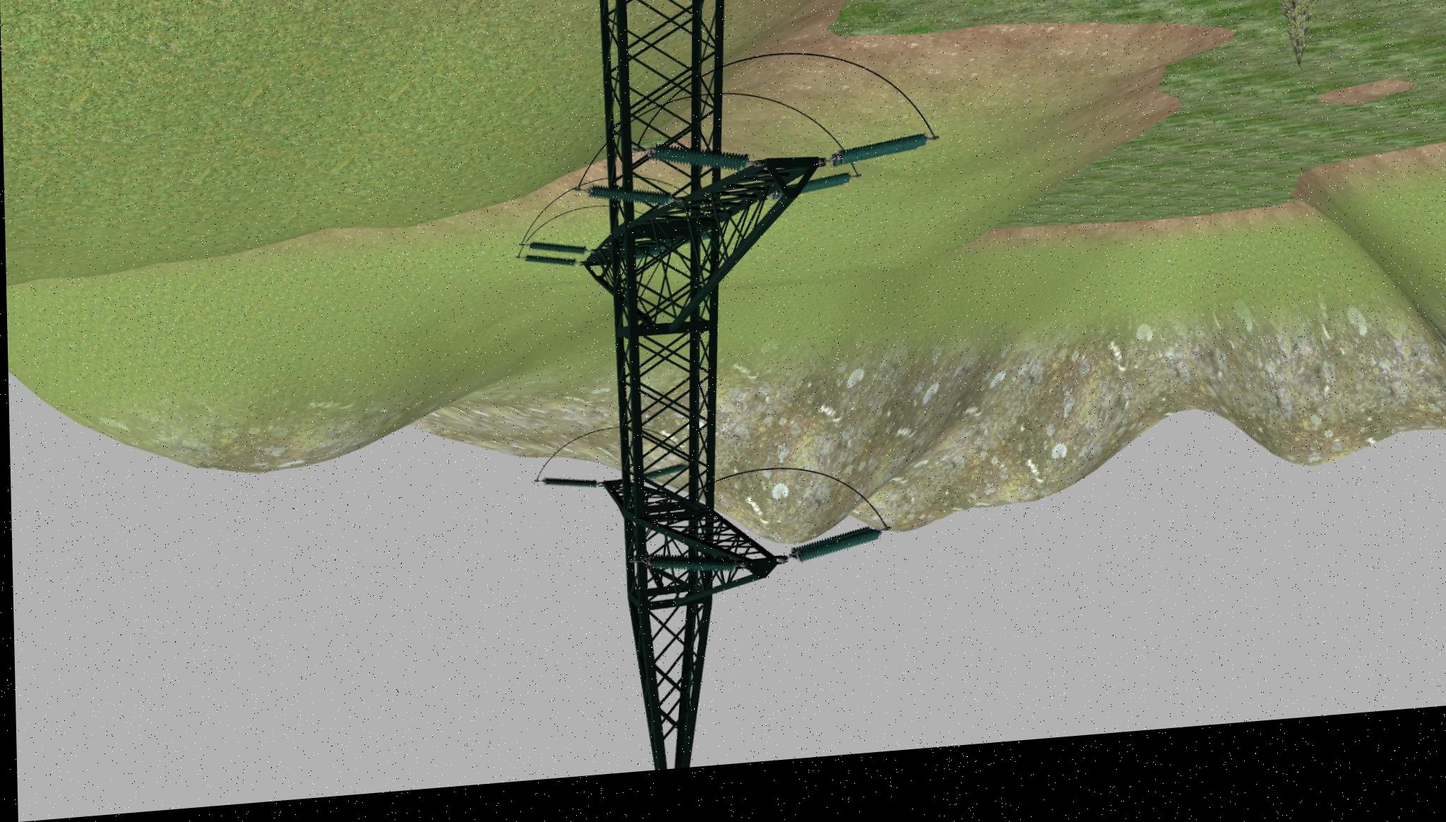tower: (580, 0, 833, 775)
